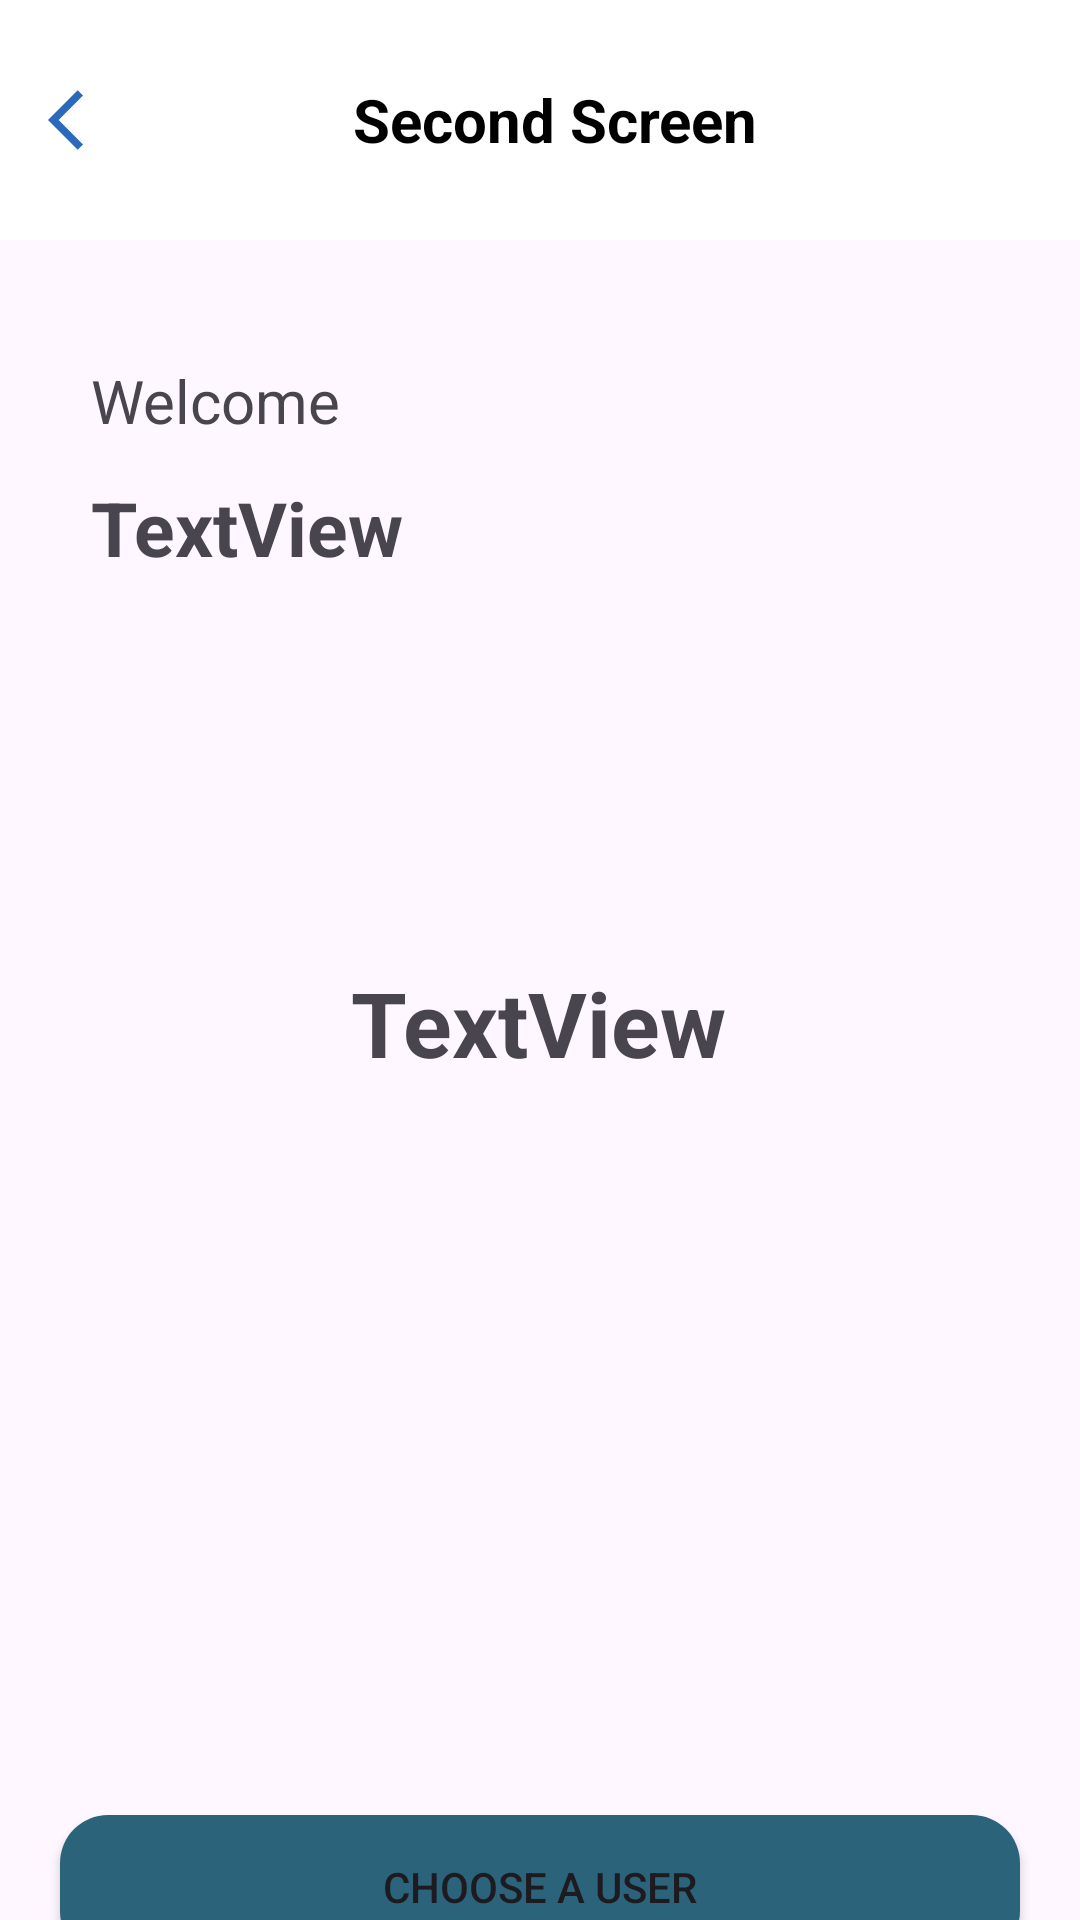

Locate icon controls on the screen. Image size 1080*1920, boxes as (x1, y1, x2, y2).
back: (48, 90, 83, 150)
